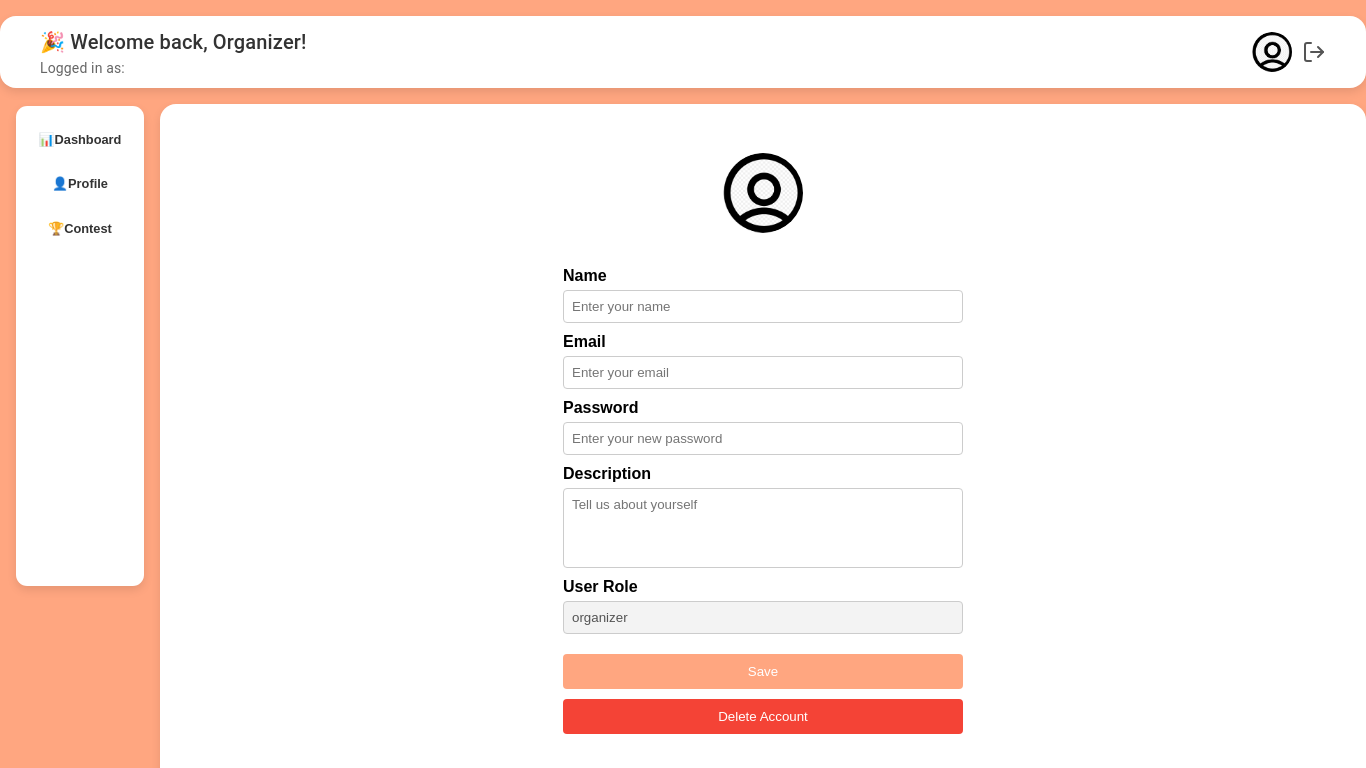
OrganizerProfile › opens avatar upload dialog
Click the picture with alt text "User Avatar" in the row of "Contest" at (763, 193), box [723,153,803,233]
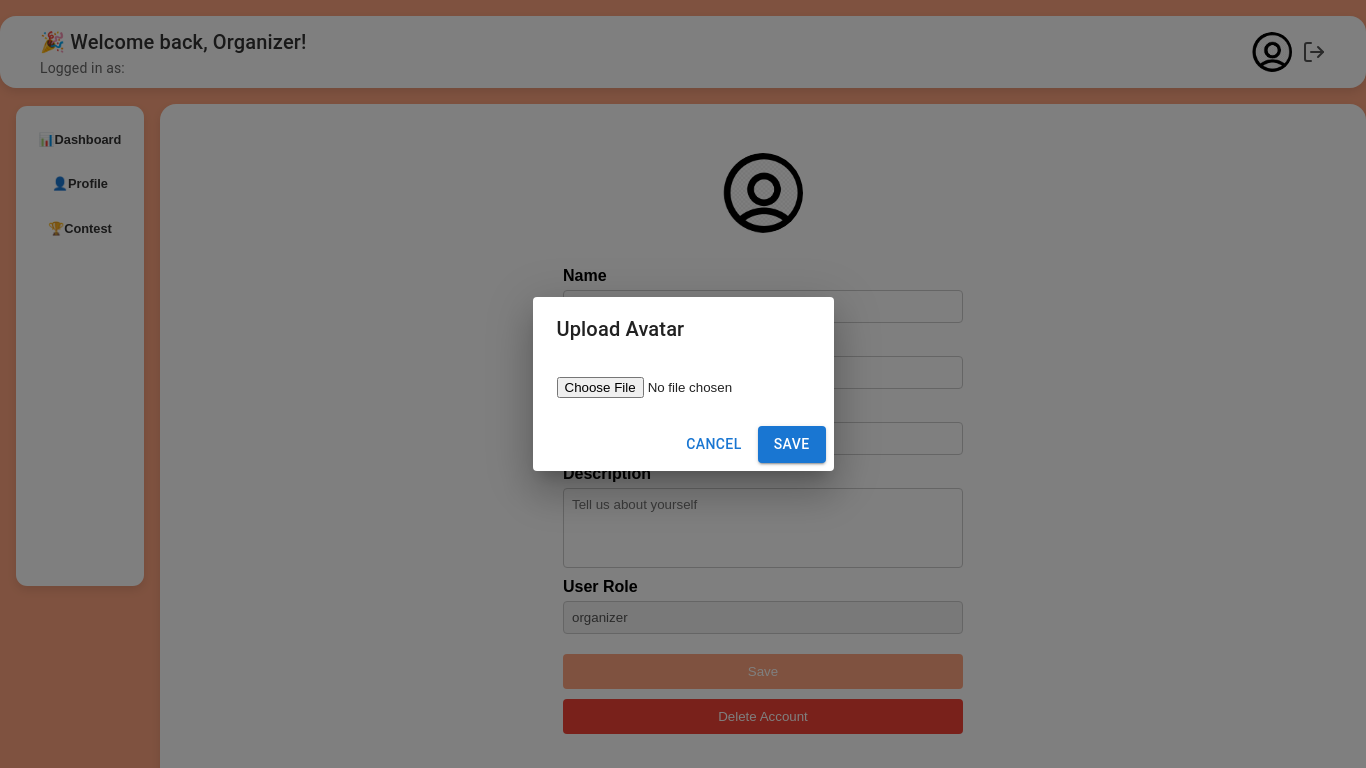
Expected: the heading "Upload Avatar" is shown, [556,317,684,341]
